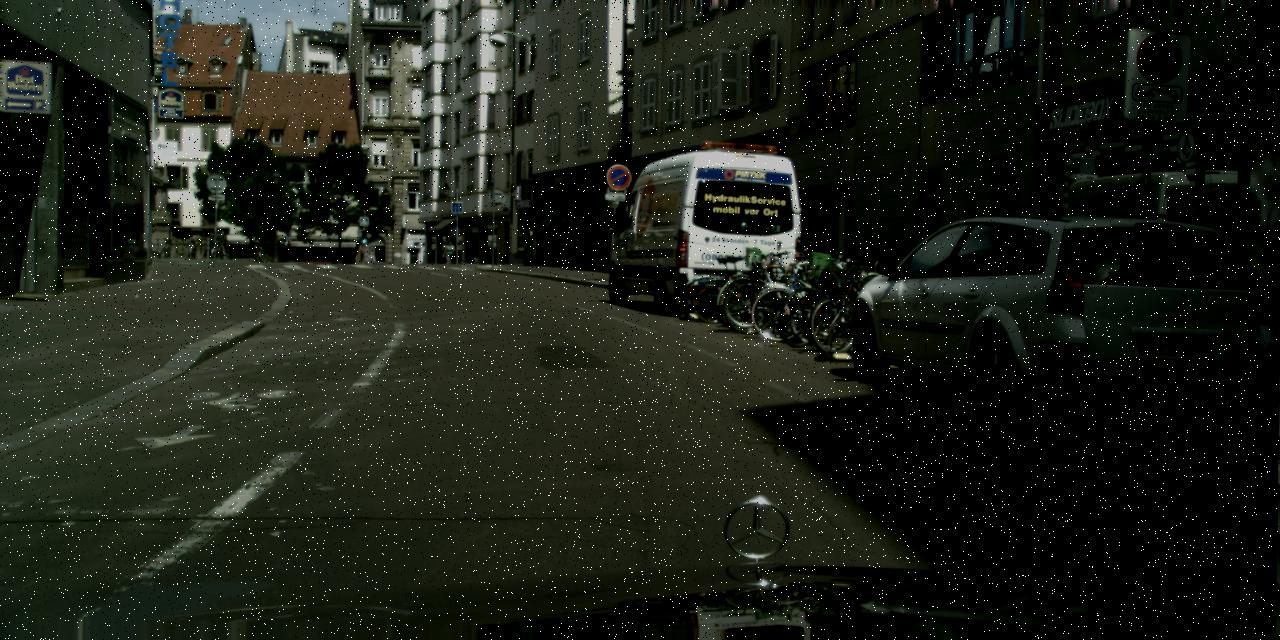ped: (445, 240, 454, 264), (368, 252, 373, 264)
